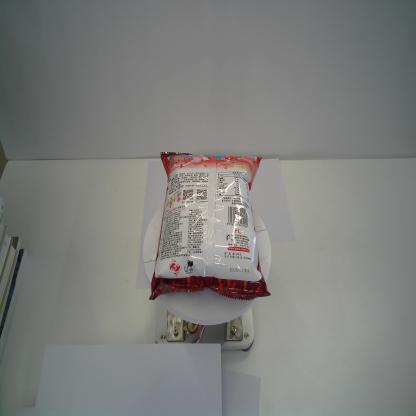Puffed Food: (150, 150, 272, 301)
